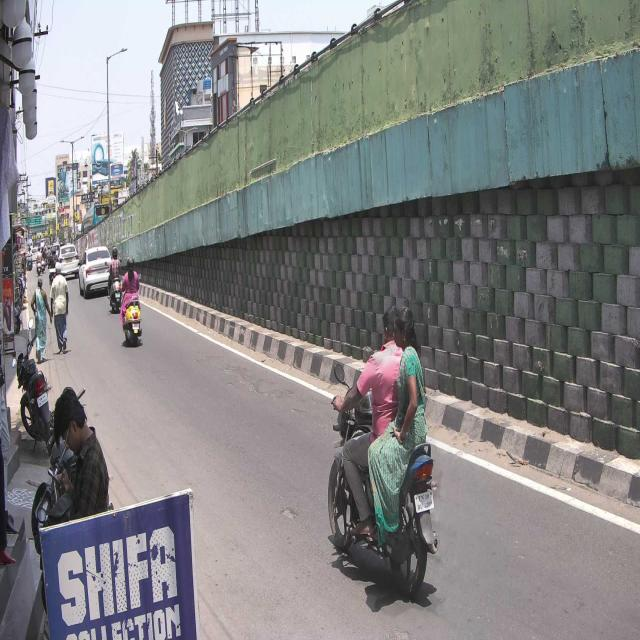double_rider: (327, 301, 440, 602)
